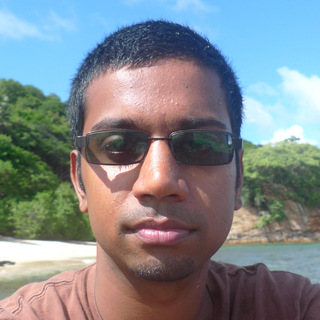eye: (95, 133, 136, 160), (179, 133, 217, 159)
